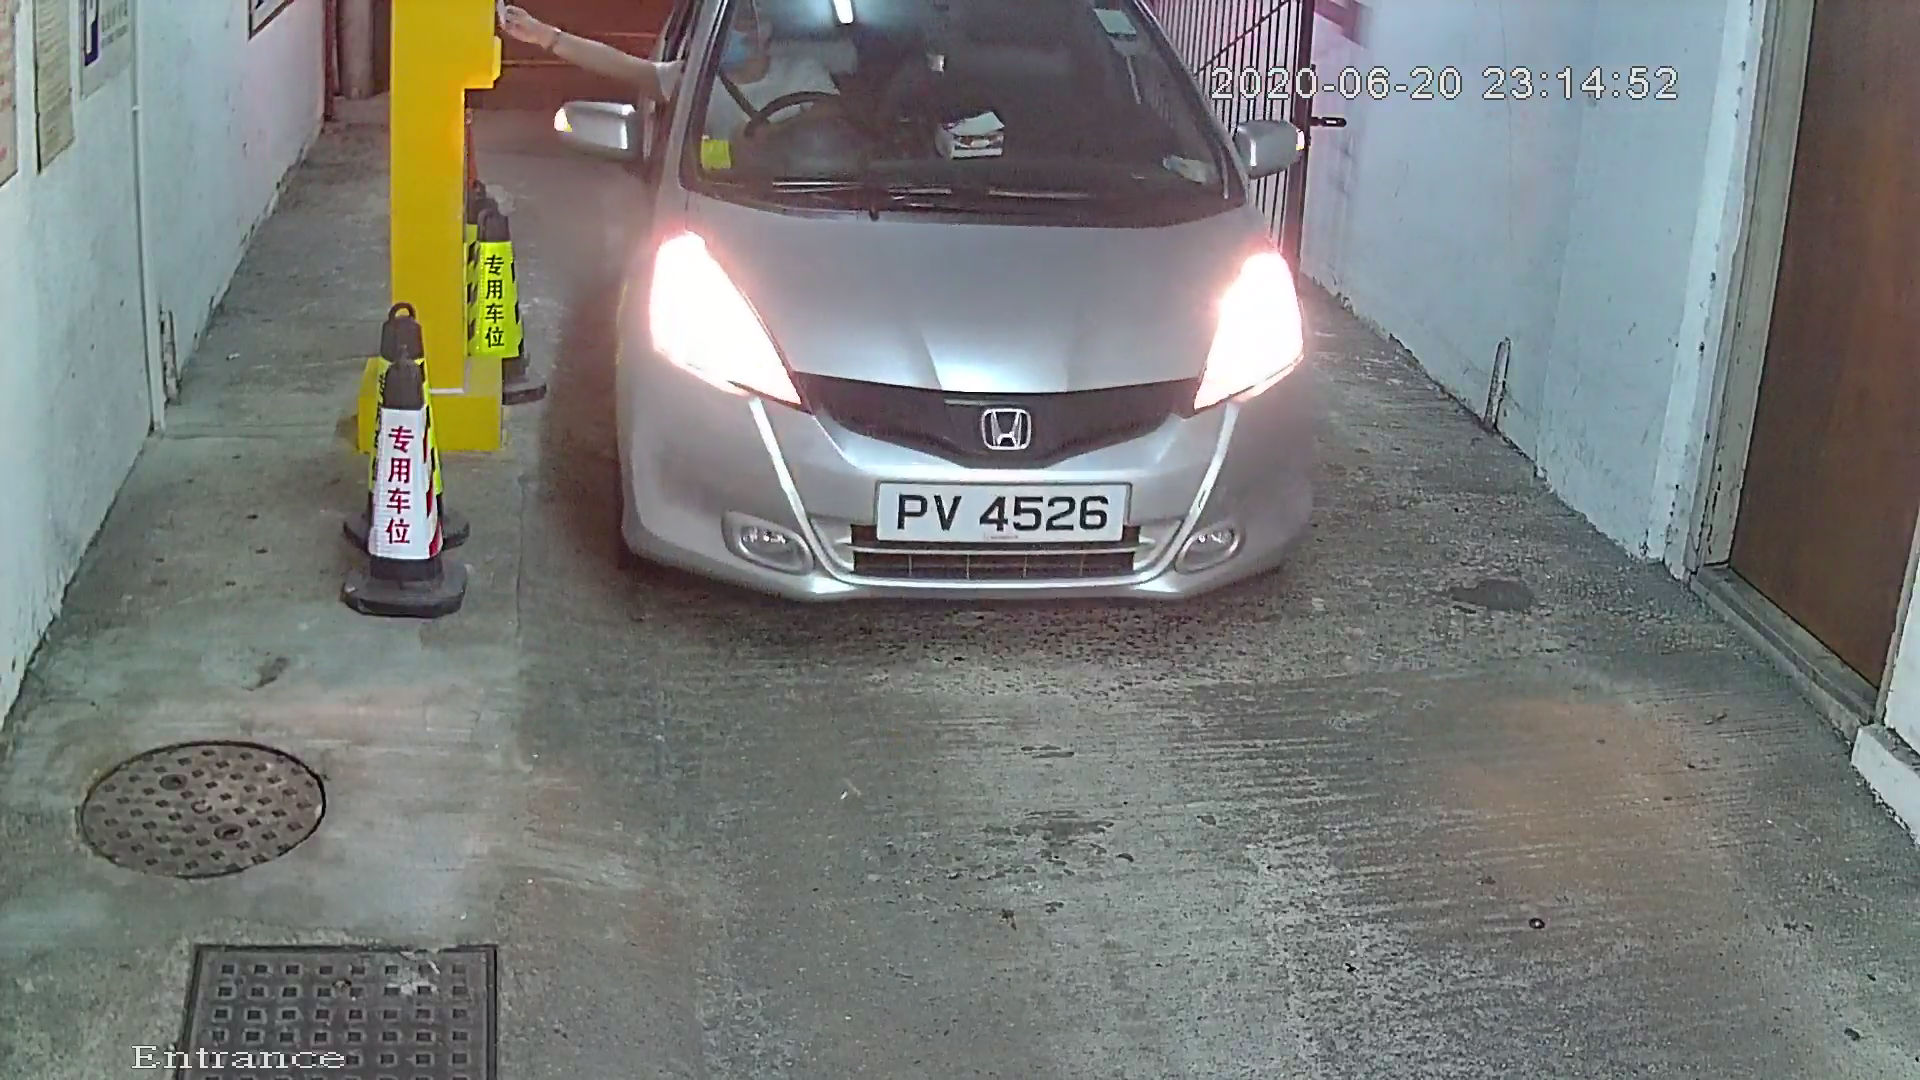privatecar: (571, 3, 1374, 700)
